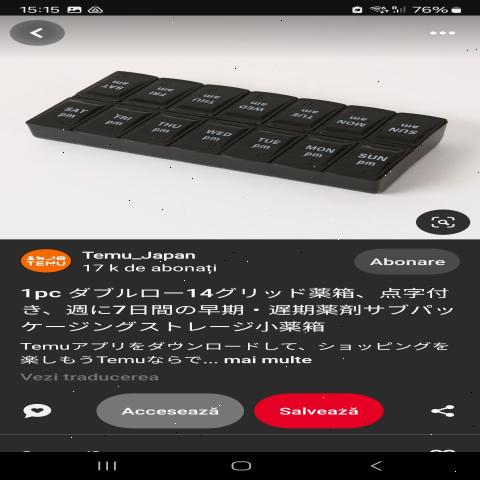PillBox: (20, 60, 461, 208)
